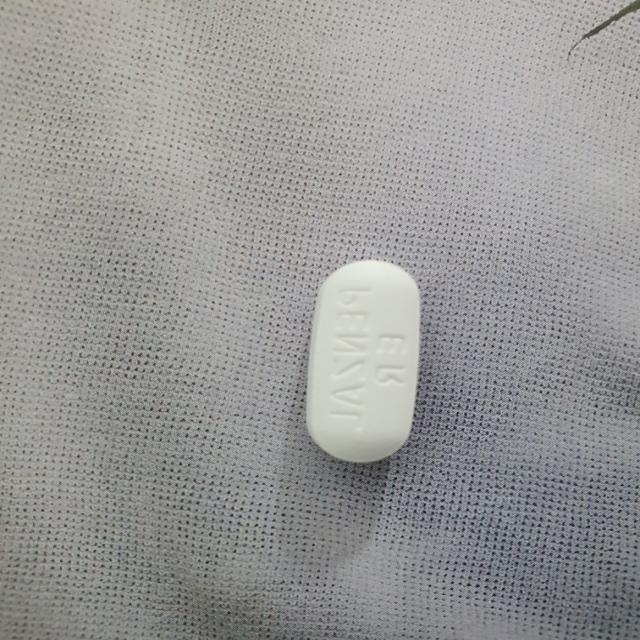pill: (286, 242, 443, 478)
